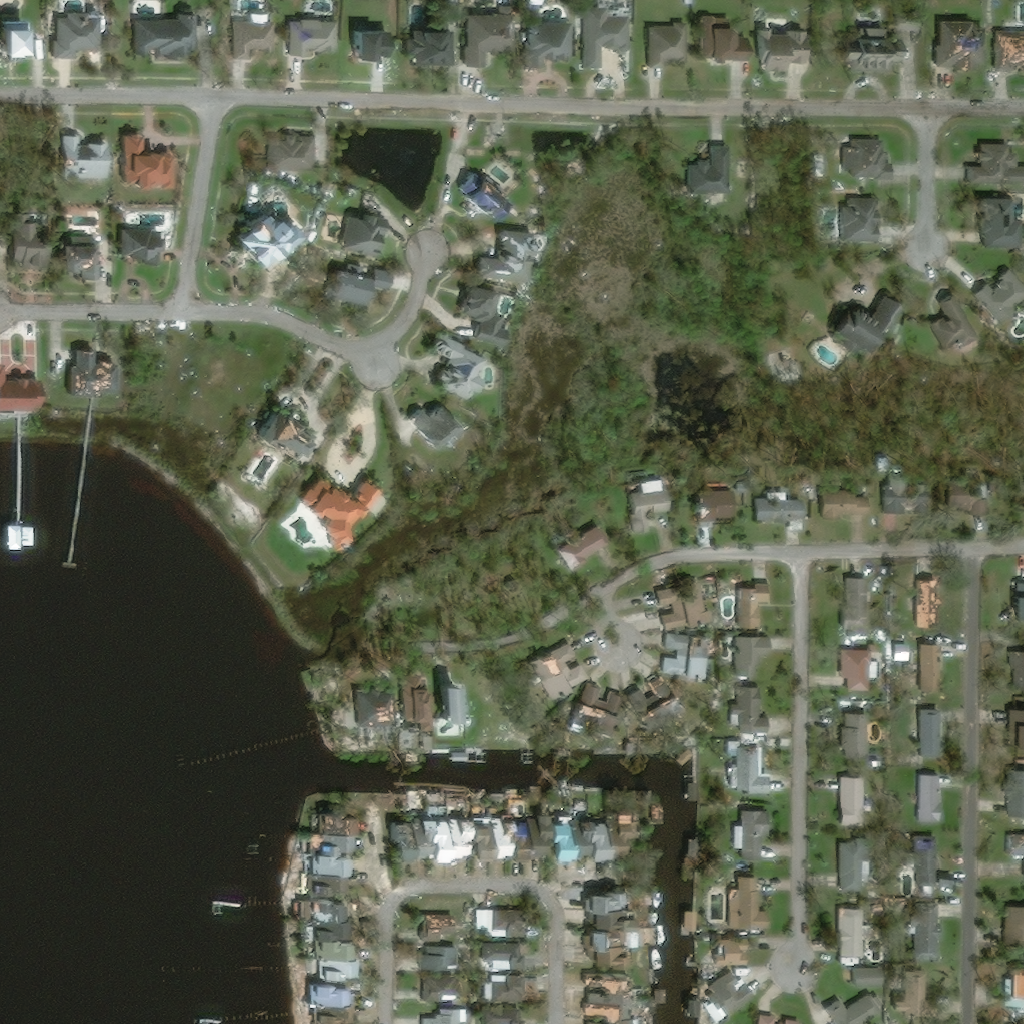minor_damage: (486, 228, 559, 281), (436, 334, 489, 402), (540, 644, 599, 702), (940, 22, 989, 71), (464, 175, 516, 221), (273, 410, 324, 456), (77, 347, 123, 394), (925, 843, 962, 897), (849, 141, 897, 182), (920, 577, 953, 629), (592, 972, 640, 1006), (362, 686, 402, 724), (705, 488, 742, 526), (593, 999, 640, 1024), (658, 679, 689, 715), (307, 897, 357, 919), (697, 635, 719, 681), (1000, 32, 1024, 73), (429, 916, 463, 943), (327, 814, 367, 836), (655, 806, 673, 827)
no_damage: (312, 475, 397, 552), (839, 296, 912, 362), (248, 210, 317, 265), (516, 803, 570, 865), (848, 30, 920, 75), (586, 7, 636, 70), (766, 17, 817, 74), (482, 812, 536, 865), (934, 296, 984, 353), (471, 285, 516, 347), (143, 11, 205, 56), (0, 362, 55, 412), (471, 8, 517, 67), (412, 406, 475, 449), (340, 264, 403, 307), (125, 137, 175, 189), (18, 212, 61, 272), (558, 528, 612, 574), (737, 876, 779, 935), (613, 811, 652, 873), (981, 271, 1024, 327), (63, 12, 113, 59), (409, 17, 456, 66), (732, 742, 774, 796), (581, 813, 618, 874), (717, 971, 764, 1019), (560, 803, 596, 865), (707, 16, 754, 63), (641, 482, 684, 533), (526, 24, 574, 69), (763, 491, 814, 533), (349, 211, 397, 255), (844, 645, 888, 693), (925, 769, 957, 835), (846, 910, 890, 957), (974, 146, 1024, 187), (983, 199, 1024, 248), (66, 137, 110, 181), (240, 10, 281, 57), (276, 133, 326, 171), (913, 909, 950, 960), (742, 813, 779, 864), (72, 233, 109, 284), (903, 969, 940, 1020), (318, 836, 365, 876), (298, 16, 346, 55), (742, 586, 780, 635), (742, 688, 779, 738), (442, 819, 483, 864), (834, 993, 892, 1024), (694, 148, 733, 193), (924, 642, 956, 695), (889, 478, 932, 517), (654, 24, 691, 69), (847, 200, 885, 243), (594, 926, 666, 948), (848, 837, 880, 886), (411, 678, 440, 731), (488, 974, 534, 1007), (597, 944, 660, 968), (481, 911, 537, 937), (594, 890, 660, 912), (661, 584, 714, 611), (668, 605, 719, 633), (829, 490, 876, 520), (848, 774, 876, 823), (131, 230, 169, 266), (955, 481, 996, 514), (743, 639, 776, 679), (849, 715, 877, 761), (596, 909, 660, 929), (592, 682, 630, 715), (847, 581, 871, 632), (13, 18, 40, 61), (487, 944, 529, 971), (363, 28, 398, 59), (326, 957, 369, 982), (721, 940, 759, 968), (924, 711, 944, 758), (317, 1004, 362, 1024), (673, 635, 696, 674), (428, 946, 465, 970), (431, 976, 465, 1002), (317, 984, 360, 1004), (314, 874, 359, 893), (454, 683, 478, 718), (414, 822, 435, 861), (431, 1008, 480, 1024), (324, 938, 365, 957), (395, 827, 416, 864), (318, 920, 357, 939), (860, 966, 893, 988), (490, 1009, 535, 1024), (432, 820, 445, 865), (902, 13, 929, 32), (1012, 905, 1024, 942), (693, 997, 711, 1016), (692, 912, 707, 934), (7, 527, 19, 551), (693, 785, 707, 805), (998, 481, 1013, 498), (1017, 653, 1024, 689), (1014, 793, 1024, 818), (905, 646, 918, 663), (659, 990, 673, 1005), (1015, 837, 1024, 857), (23, 529, 32, 547), (772, 1015, 786, 1024), (792, 1017, 809, 1024), (742, 473, 750, 483), (742, 485, 750, 495), (756, 481, 764, 490), (884, 464, 891, 473), (468, 47, 471, 67), (1019, 710, 1024, 722)
unclassified: (982, 0, 988, 4)
